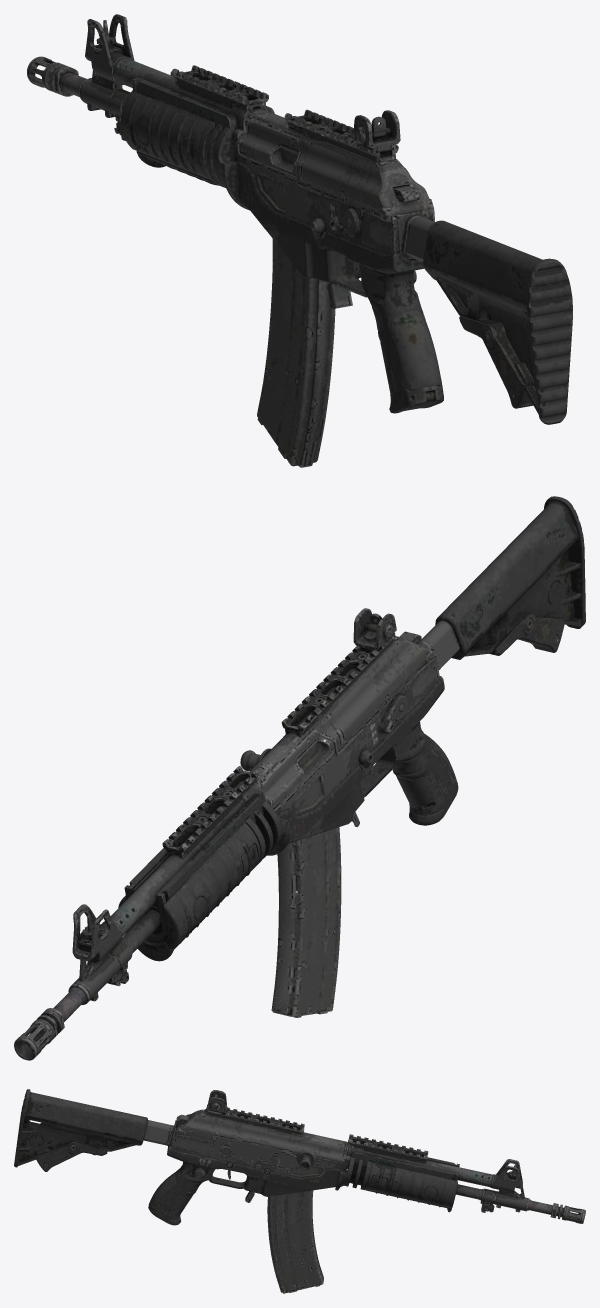
The model's file is p_galil.glb.
3 views of the same model, one above another, from view 1: azimuth 30°, elevation 25°; view 2: azimuth 150°, elevation 25°; view 3: azimuth 270°, elevation 25° (orthographic). The views are drawn at different scales.
Parts seen in each view (by area): view 1: p_galil; view 2: p_galil; view 3: p_galil.
Part boxes in pixels (left/top/right/bottom): p_galil: left=27, top=14, right=572, bottom=467; p_galil: left=14, top=496, right=585, bottom=1060; p_galil: left=14, top=1089, right=585, bottom=1293.
Size of the model in its own units: 0.1156 by 0.4348 by 1.13.
Materials: 1 (1 with a texture image).
